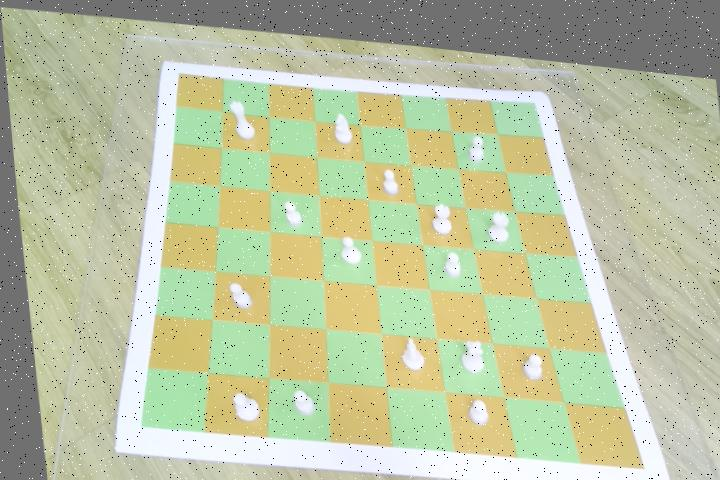chessboard-detect: (132, 68, 636, 455)
